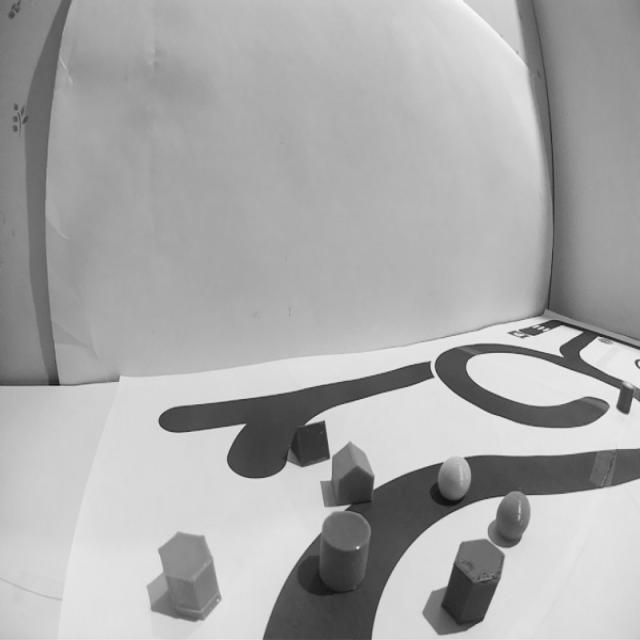ball: (495, 490, 531, 542), (438, 456, 472, 501)
cylinder: (318, 509, 372, 593), (616, 381, 635, 413)
hexagon: (158, 530, 222, 622), (443, 539, 505, 625)
home: (331, 442, 375, 505)
laneRightTurn: (260, 456, 486, 640)
triangle: (290, 421, 330, 467)
